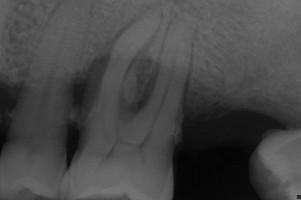Endo-Periodontal Lesion: (118, 57, 159, 121)
